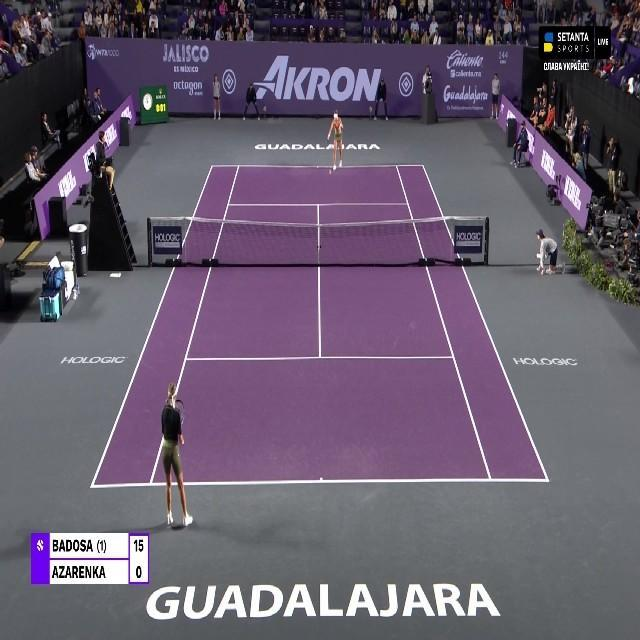left side: (397, 166, 548, 480), (91, 166, 238, 487)
player: (156, 381, 194, 528), (326, 112, 346, 170)
